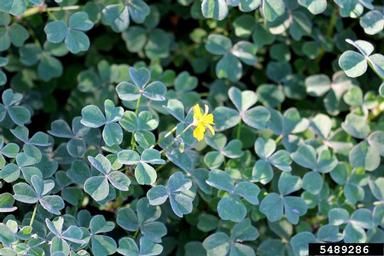oxalis: (12, 61, 384, 254)
